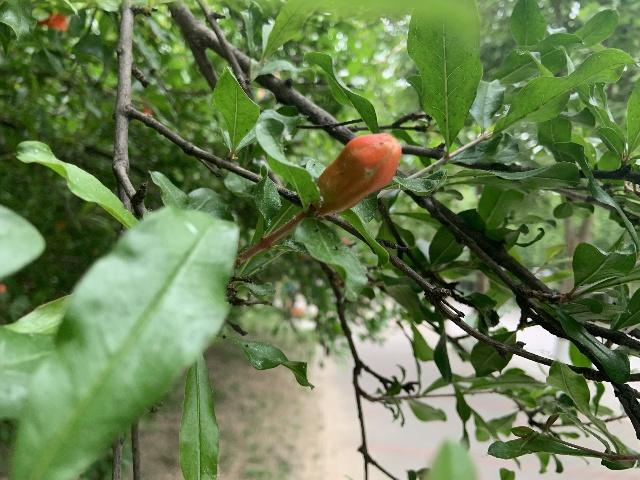bud: (314, 132, 401, 213)
flower: (37, 13, 68, 31)
